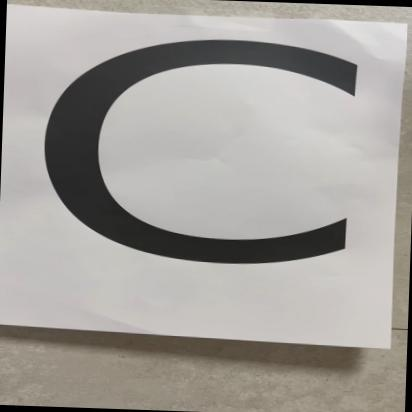seat: (6, 6, 405, 345)
